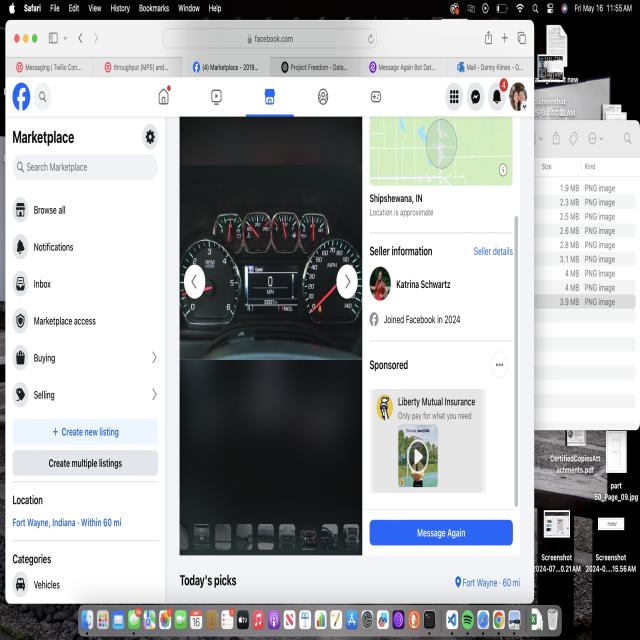message_button: (371, 519, 509, 544)
